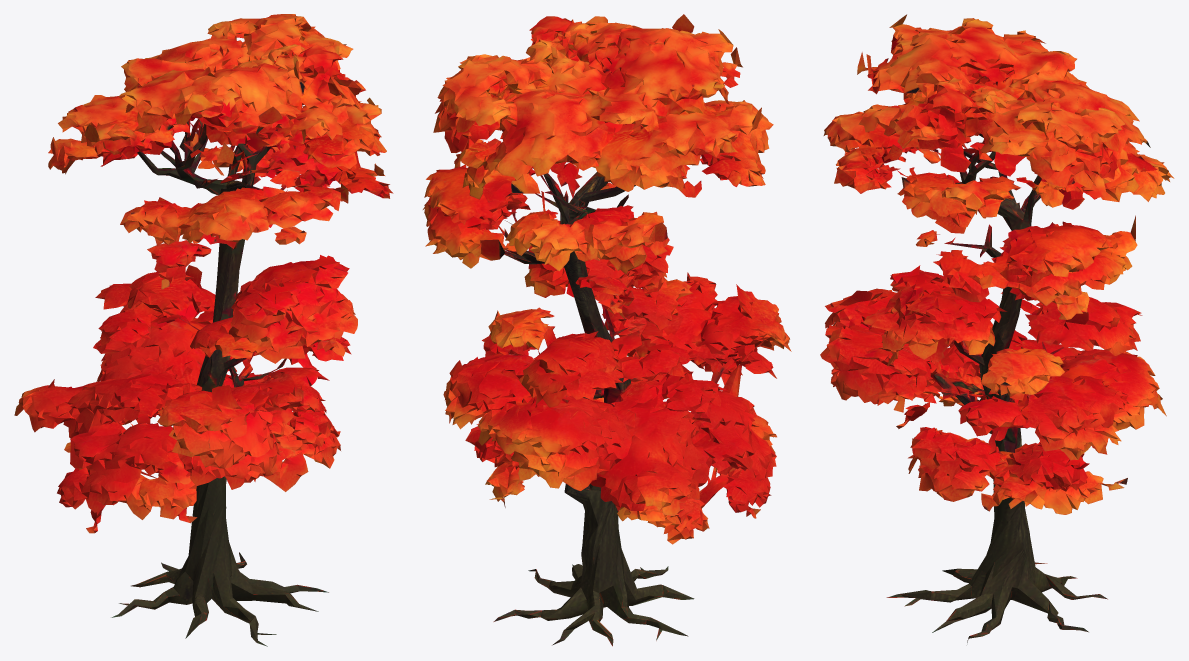
3 renders of one model, left to right at view 1: azimuth 30°, elevation 25°; view 2: azimuth 150°, elevation 25°; view 3: azimuth 270°, elevation 25°, orthographic.
Bounding box in the file's own units: 1.12 × 1.88 × 1.09.
1 material, 1 textured.
